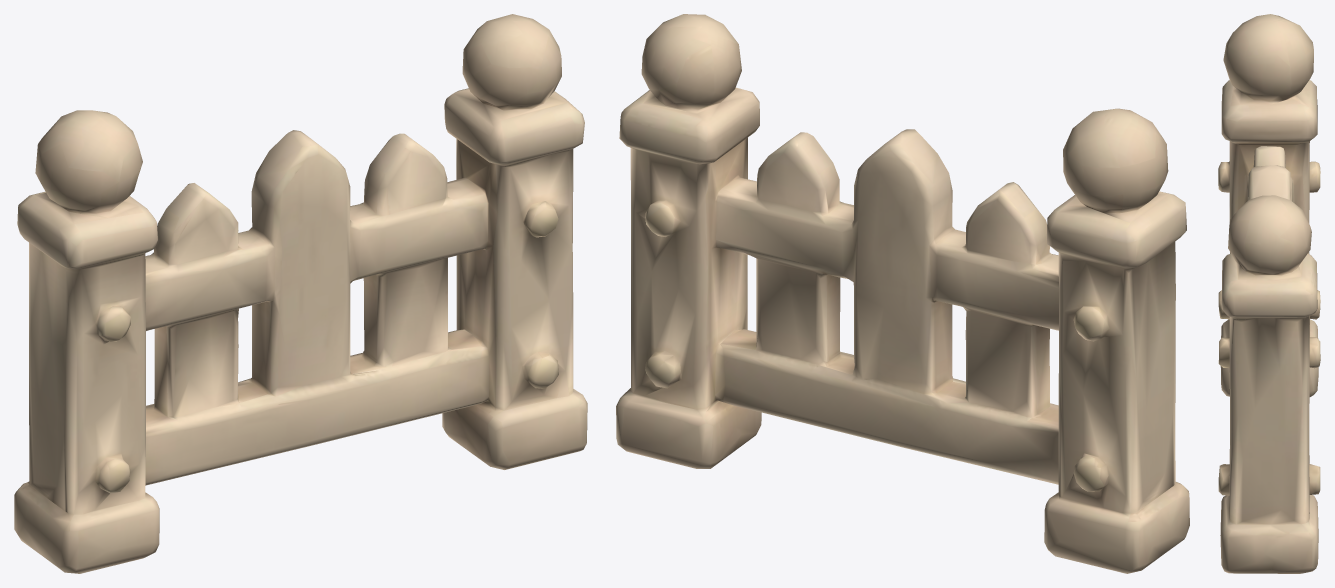
3 views of the same model, side by side, from view 1: azimuth 30°, elevation 25°; view 2: azimuth 150°, elevation 25°; view 3: azimuth 270°, elevation 25° (orthographic). The views are drawn at different scales.
Visible parts, largest first — view 1: fence; view 2: fence; view 3: fence.
Part boxes in pixels (x1,y1,x2,y2): fence: (14,14,587,573); fence: (616,14,1189,573); fence: (1218,14,1320,573).
Size of the model in its own units: 1.2 by 0.943 by 0.2392.
1 material, 1 textured.
